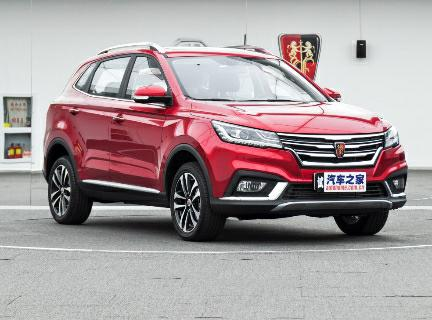荣威-RX3: (36, 41, 412, 245)
